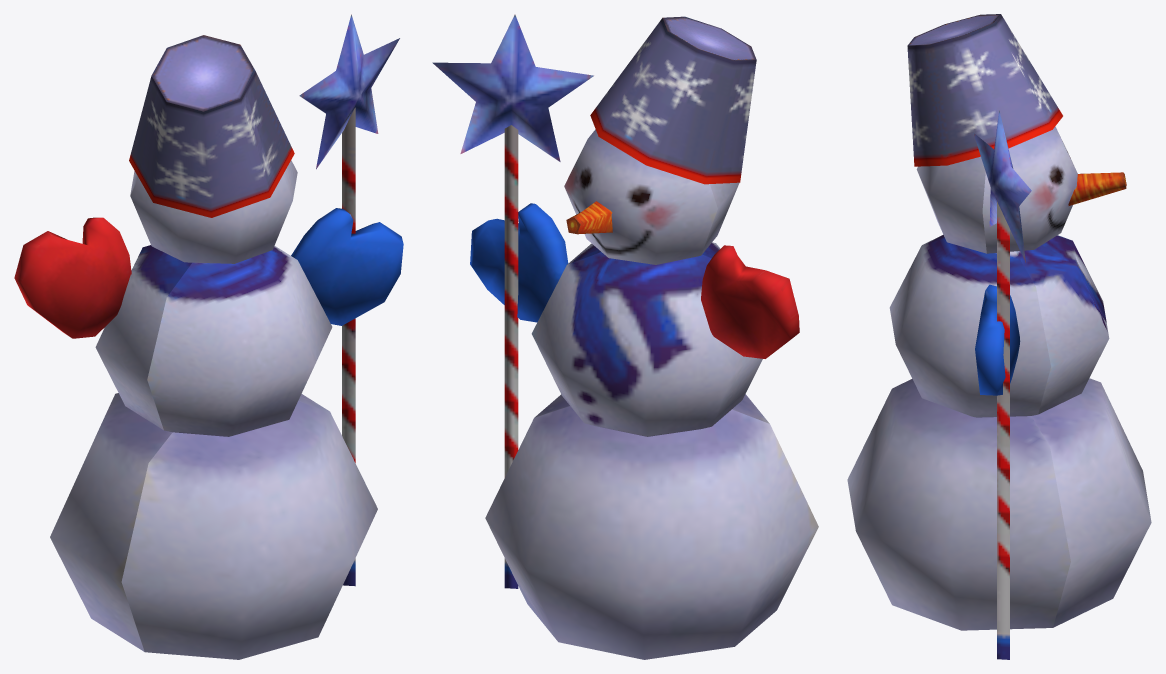
3 renders of one model, left to right at view 1: azimuth 30°, elevation 25°; view 2: azimuth 150°, elevation 25°; view 3: azimuth 270°, elevation 25°, orthographic. The views are drawn at different scales.
Visible parts, largest first — view 1: ny3; view 2: ny3; view 3: ny3.
Part boxes in pixels (x1,y1,x2,y2): ny3: (14,14,403,659); ny3: (432,14,818,659); ny3: (847,14,1151,659).
Size of the model in its own units: 1.23 by 1.96 by 0.9073.
Materials: 1 (1 with a texture image).
